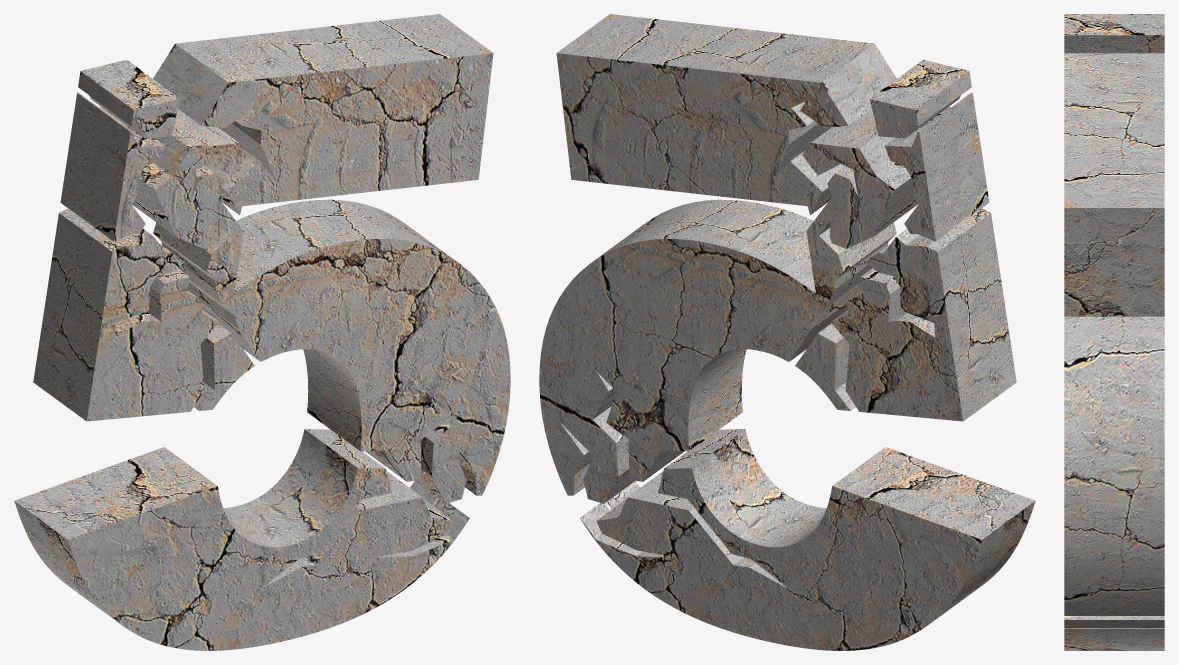
The picture shows the model from 3 angles, left to right: view 1: azimuth 30°, elevation 25°; view 2: azimuth 150°, elevation 25°; view 3: azimuth 270°, elevation 25°; orthographic projection. The views are drawn at different scales.
Visible parts, largest first — view 1: 5; view 2: 5; view 3: 5.
Boxes of the visible parts, left/top/right/bottom form: 5: left=14, top=14, right=510, bottom=650; 5: left=539, top=14, right=1035, bottom=650; 5: left=1064, top=14, right=1164, bottom=650.
Size of the model in its own units: 71.74 by 88.55 by 15.
1 material, 1 textured.
